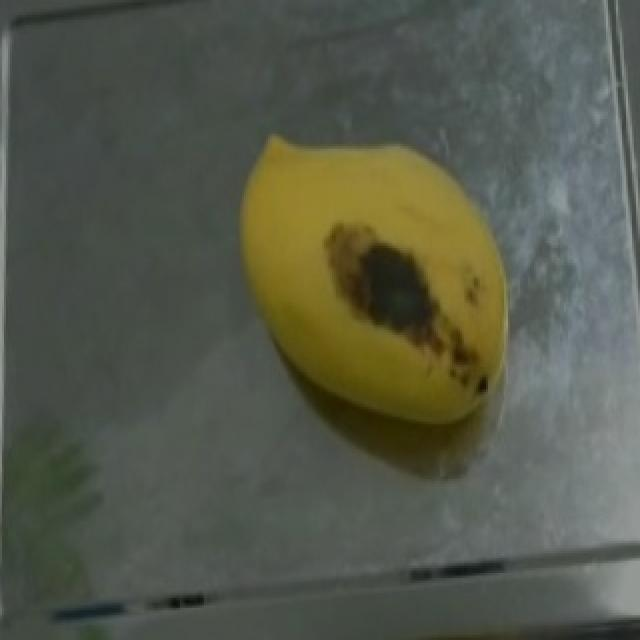fruit: (214, 126, 526, 397)
